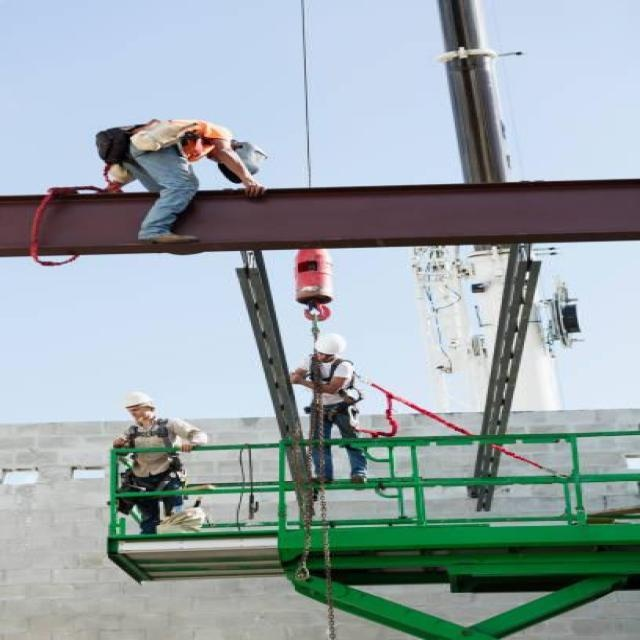Arnes_seguridad: (122, 418, 182, 494), (304, 357, 360, 423)
